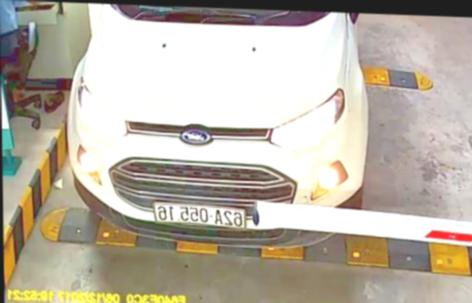License_Plate: (150, 198, 247, 230)
